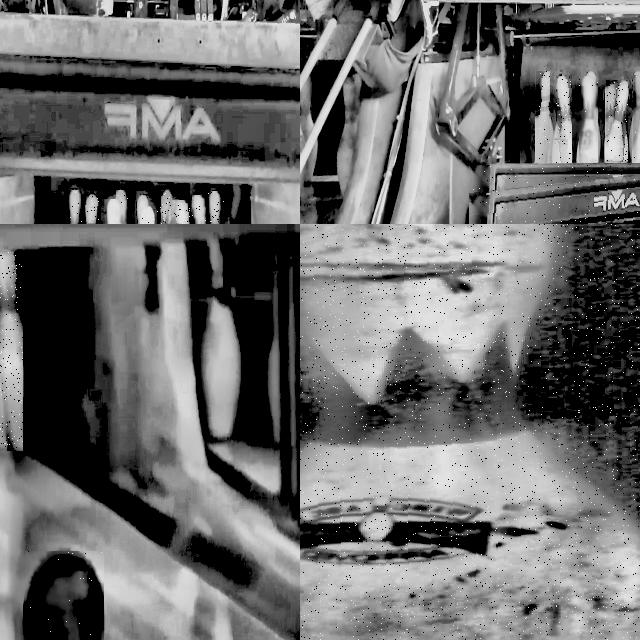bowling-ball: (25, 551, 104, 640)
bowling-pins: (300, 224, 640, 640), (0, 252, 22, 451), (607, 81, 627, 162), (579, 76, 598, 161), (556, 75, 572, 163), (538, 72, 549, 162), (634, 79, 640, 160), (160, 191, 172, 224), (84, 194, 97, 224), (192, 196, 205, 224), (68, 190, 78, 224), (116, 190, 126, 224), (210, 191, 220, 224)
sweep board: (484, 175, 640, 224)
